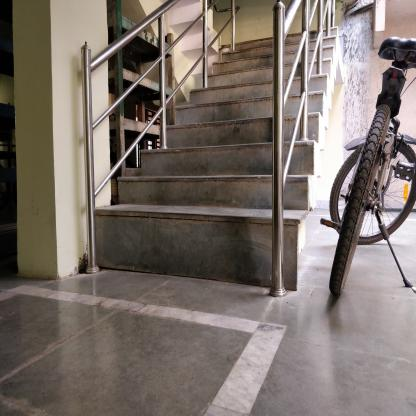stairs: (209, 56, 271, 297)
